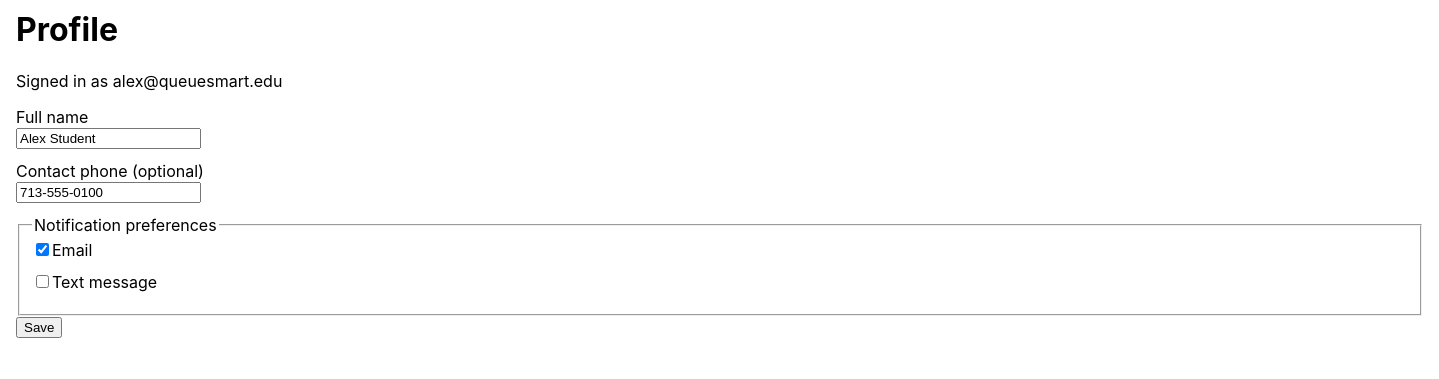
Profile › submits the changes and shows what was saved
Replace the text in the field labelled "Full name" with "  Alex Q. Student " at (108, 138), box [16,128,201,149]
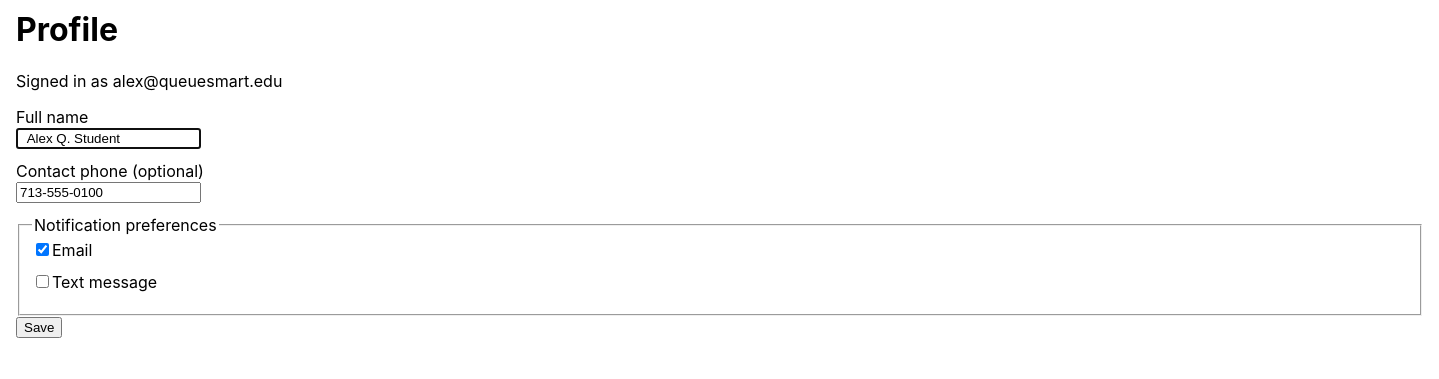
Replace the text in the field labelled "Contact phone (optional)" with "832-555-0199" at (108, 192), box [16,182,201,203]
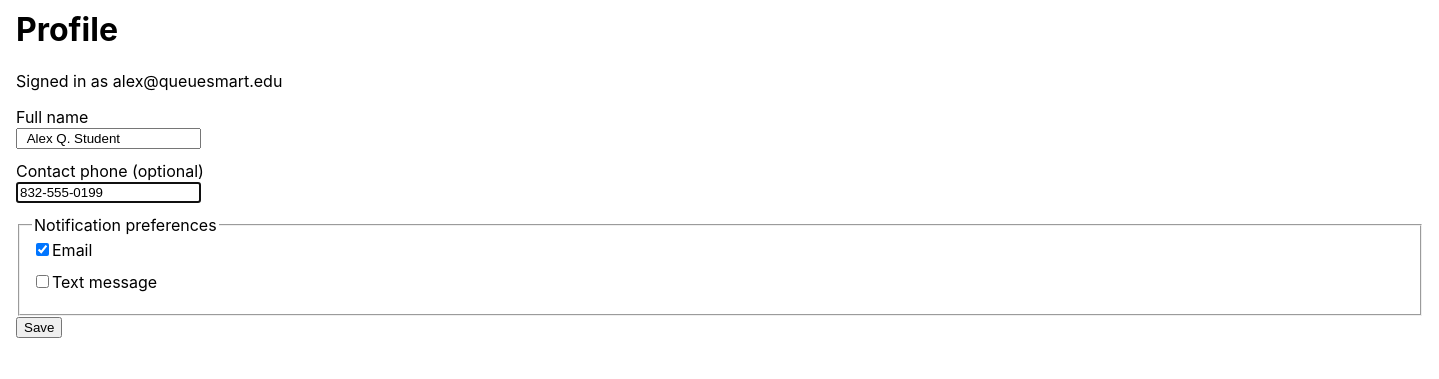
Click the checkbox labelled "Email" at (42, 250), box [36,244,49,256]
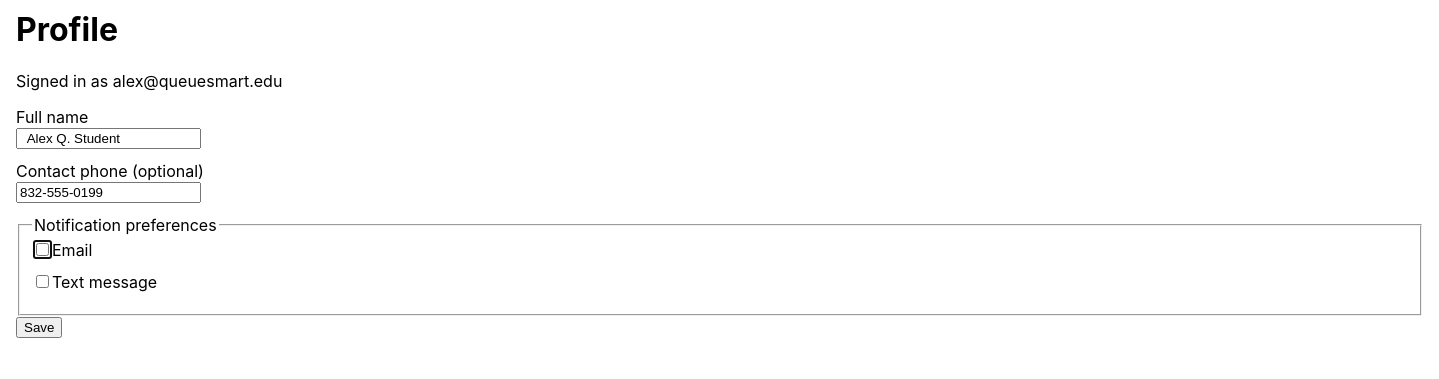
Click the checkbox labelled "Text message" at (42, 282), box [36,276,49,288]
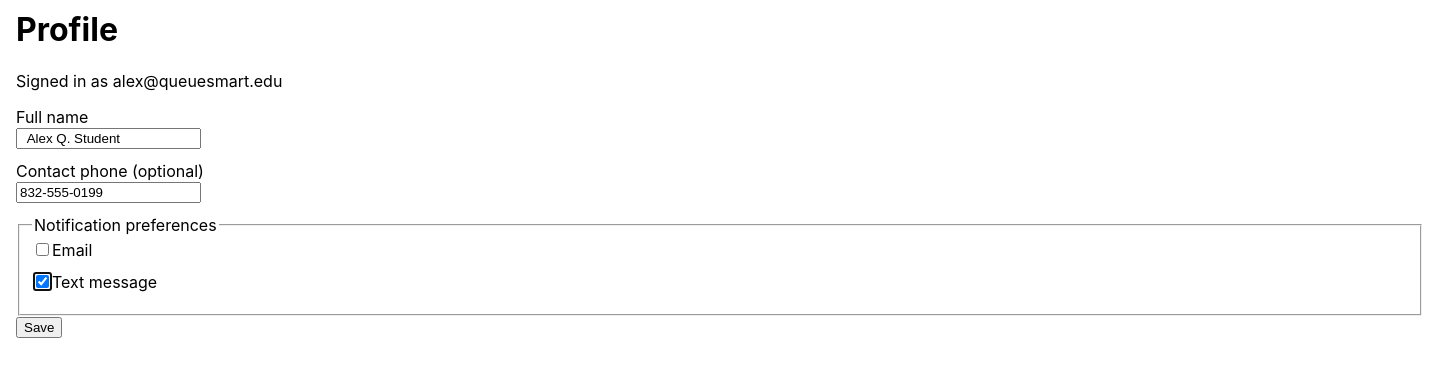
Click the button "Save" at (39, 328), box [16,318,62,338]
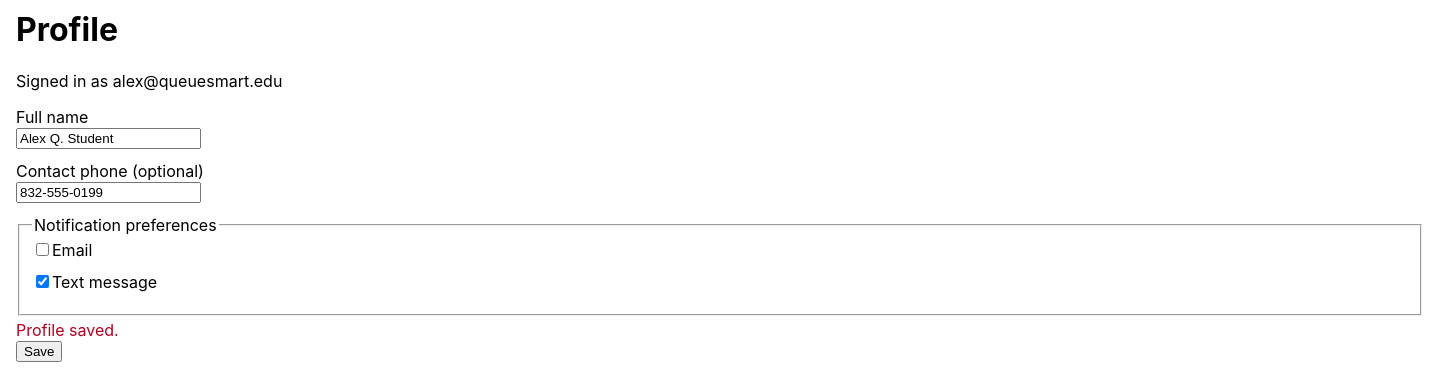
Now the checkbox labelled "Text message" is checked, box [36,276,49,288]
Now the message reads "Profile saved.", box [16,320,119,340]
